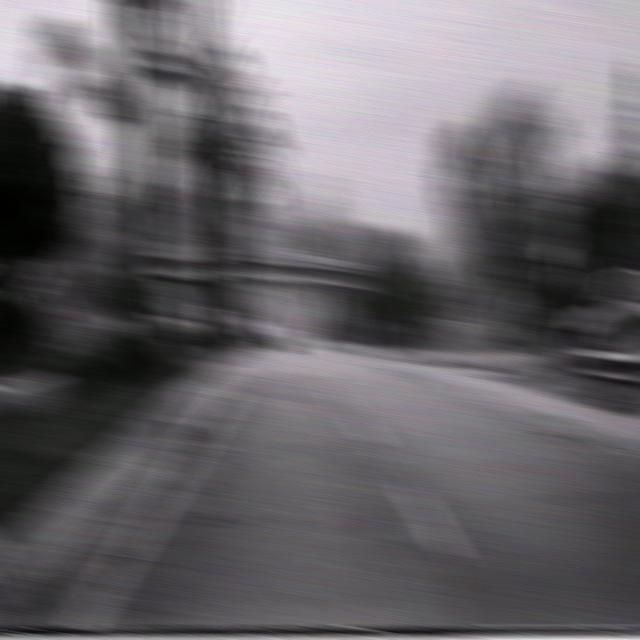stop_sign: (489, 228, 522, 267)
